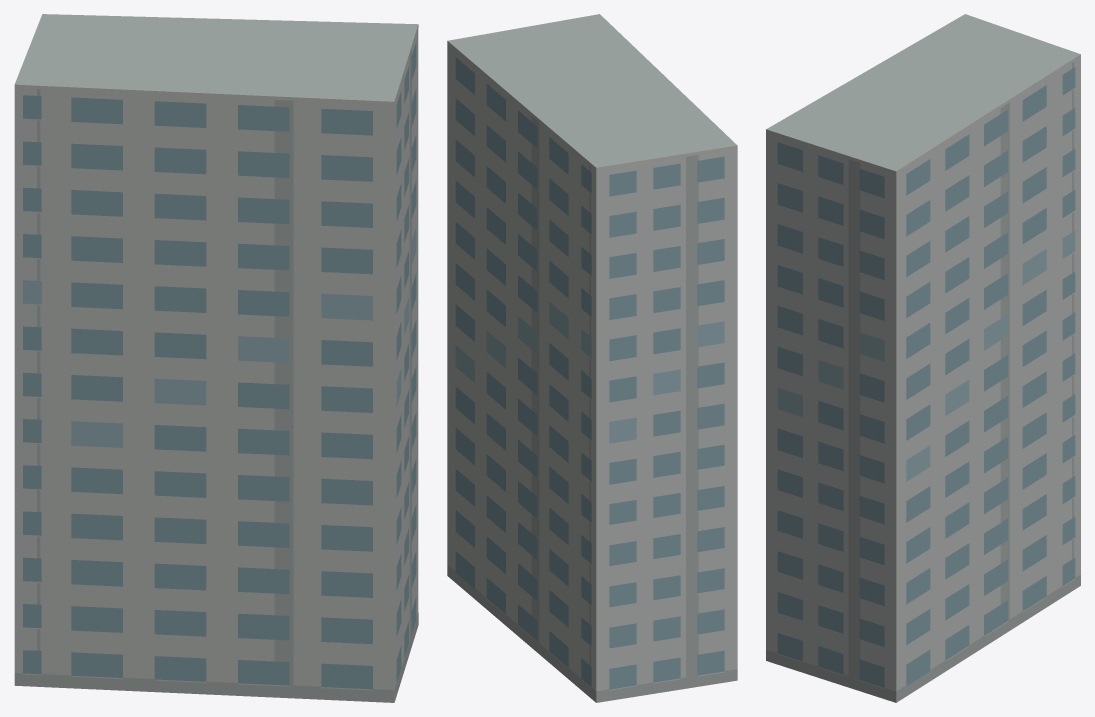
File: residential-c4602e84-e2cb-457c-aaeb-11ab73fdff4e.glb
3 renders of one model, left to right at view 1: azimuth 30°, elevation 25°; view 2: azimuth 150°, elevation 25°; view 3: azimuth 270°, elevation 25°, orthographic. The views are drawn at different scales.
Visible parts, largest first — view 1: residential-c4602e84-e2cb-457c-aaeb-11ab73fdff4e.tmp; view 2: residential-c4602e84-e2cb-457c-aaeb-11ab73fdff4e.tmp; view 3: residential-c4602e84-e2cb-457c-aaeb-11ab73fdff4e.tmp.
Boxes of the visible parts, <box> form: residential-c4602e84-e2cb-457c-aaeb-11ab73fdff4e.tmp: <box>14,14,418,702</box>; residential-c4602e84-e2cb-457c-aaeb-11ab73fdff4e.tmp: <box>447,14,737,702</box>; residential-c4602e84-e2cb-457c-aaeb-11ab73fdff4e.tmp: <box>766,14,1080,702</box>.
Bounding box in the file's own units: 26.69 × 42 × 22.55.
